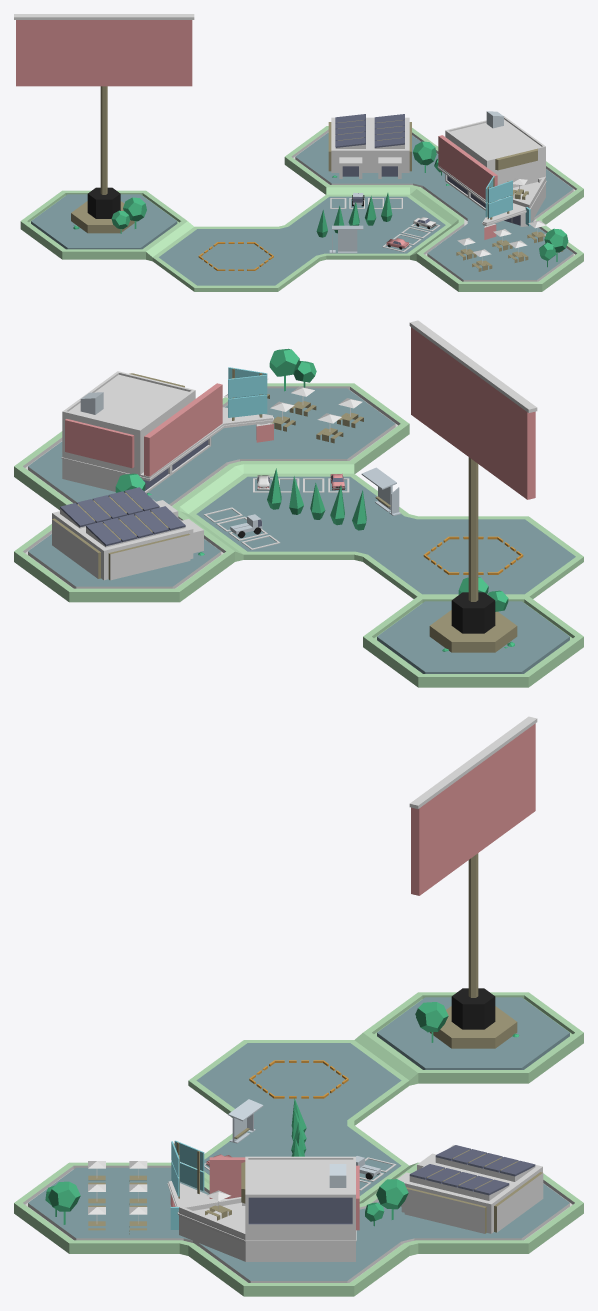
The model's file is npc_Role_Dealer_LV2.fbx.
3 renders of one model, top to bottom at view 1: azimuth 30°, elevation 25°; view 2: azimuth 150°, elevation 25°; view 3: azimuth 270°, elevation 25°, orthographic. The views are drawn at different scales.
Visible parts, largest first — view 1: 平面.011; view 2: 平面.011; view 3: 平面.011.
Boxes of the visible parts, x1=… form: 平面.011: x1=14, y1=14, x2=583, y2=291; 平面.011: x1=14, y1=320, x2=583, y2=687; 平面.011: x1=14, y1=716, x2=583, y2=1296.
Bounding box in the file's own units: 606 × 269 × 490.
